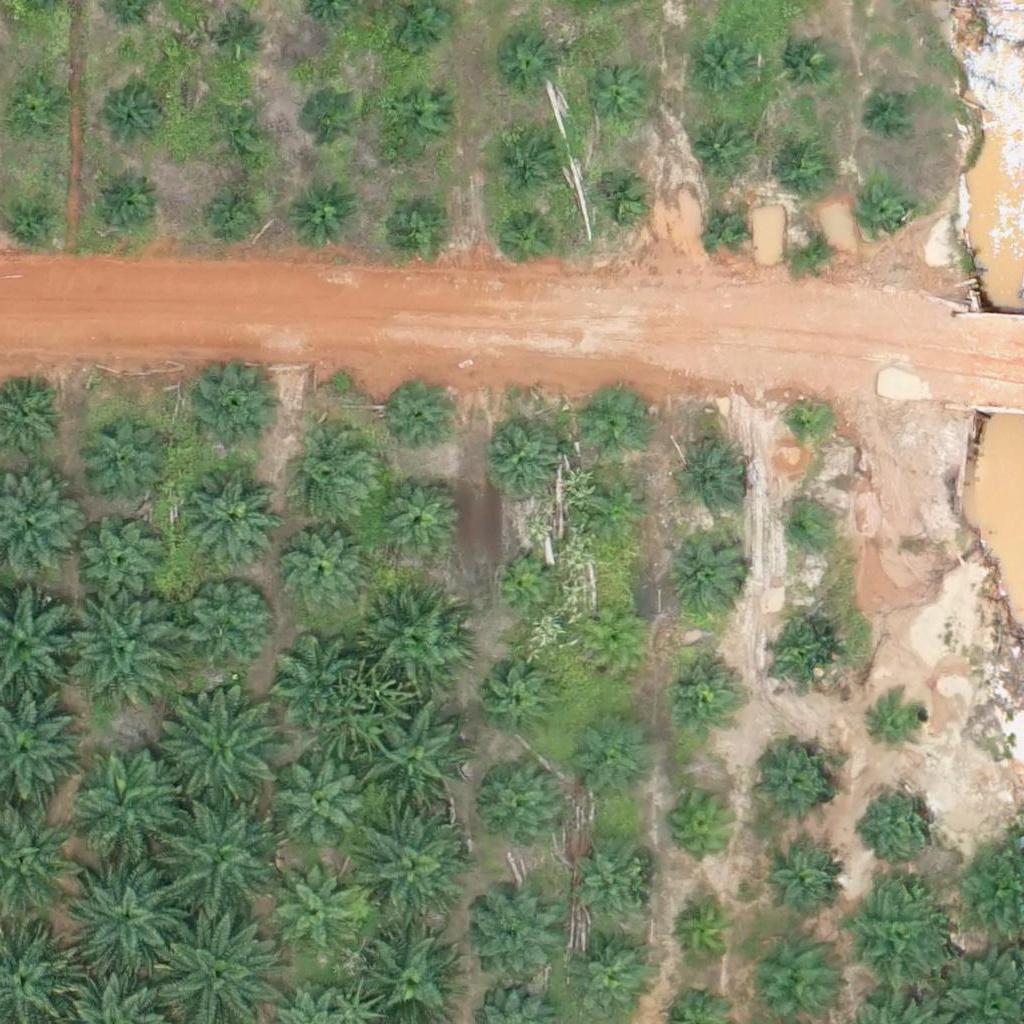Kelapa_Sawit: (164, 799, 289, 925), (64, 852, 189, 978), (65, 579, 190, 705), (160, 694, 285, 819), (359, 815, 472, 928), (841, 883, 953, 996), (368, 714, 468, 815), (362, 591, 462, 691), (77, 753, 177, 853), (284, 427, 384, 527), (179, 460, 279, 560), (754, 744, 842, 832), (472, 894, 560, 982), (279, 761, 367, 849), (185, 577, 273, 665), (193, 361, 281, 449), (74, 517, 162, 605), (478, 763, 565, 852), (282, 527, 369, 616), (758, 841, 845, 929), (565, 845, 652, 933), (271, 867, 358, 955), (270, 634, 357, 722), (481, 416, 568, 504), (376, 473, 463, 561), (73, 417, 160, 505), (671, 438, 746, 514), (381, 383, 456, 459), (762, 619, 837, 695), (666, 895, 741, 971), (864, 782, 939, 858), (671, 535, 746, 611), (479, 662, 554, 737), (576, 726, 651, 801), (663, 653, 738, 728), (669, 786, 744, 861), (289, 185, 352, 248), (688, 38, 751, 101), (98, 168, 161, 231), (9, 75, 72, 138), (385, 83, 448, 146), (383, 190, 446, 253), (299, 90, 362, 153), (495, 207, 558, 270), (584, 388, 647, 451), (775, 134, 838, 197), (689, 119, 752, 182), (580, 610, 643, 673), (499, 129, 561, 192), (211, 103, 273, 166), (496, 33, 558, 96), (590, 484, 652, 547), (585, 71, 647, 134), (590, 169, 652, 232), (775, 29, 837, 92), (869, 691, 931, 754), (206, 185, 268, 247), (489, 550, 551, 612), (102, 90, 164, 152), (702, 204, 752, 255), (788, 225, 838, 276), (219, 16, 269, 66), (859, 191, 909, 241), (869, 86, 919, 136), (781, 399, 831, 449), (777, 506, 827, 556)
